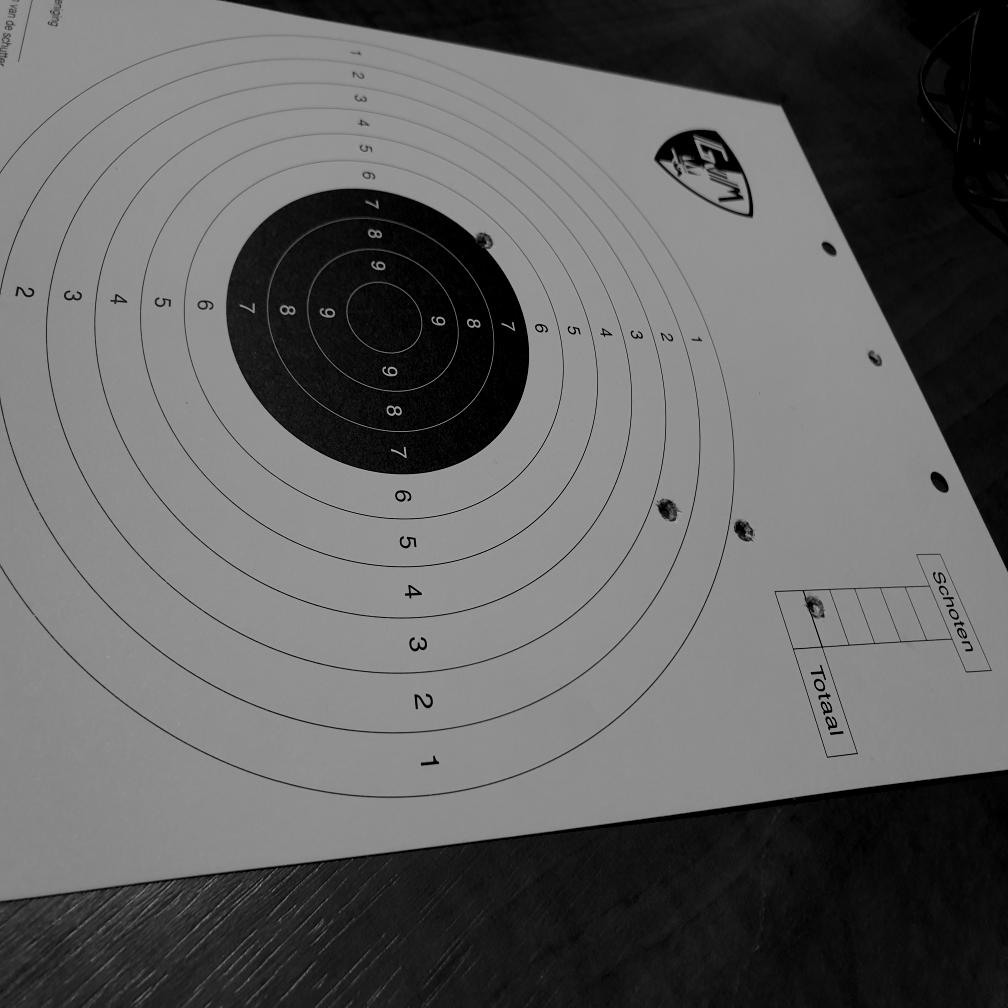0: (803, 593, 826, 620), (733, 518, 757, 542), (867, 348, 882, 367)
2: (656, 496, 679, 522)
7: (475, 231, 495, 250)
Target: (0, 27, 737, 803)
black_contour: (227, 188, 530, 474)
